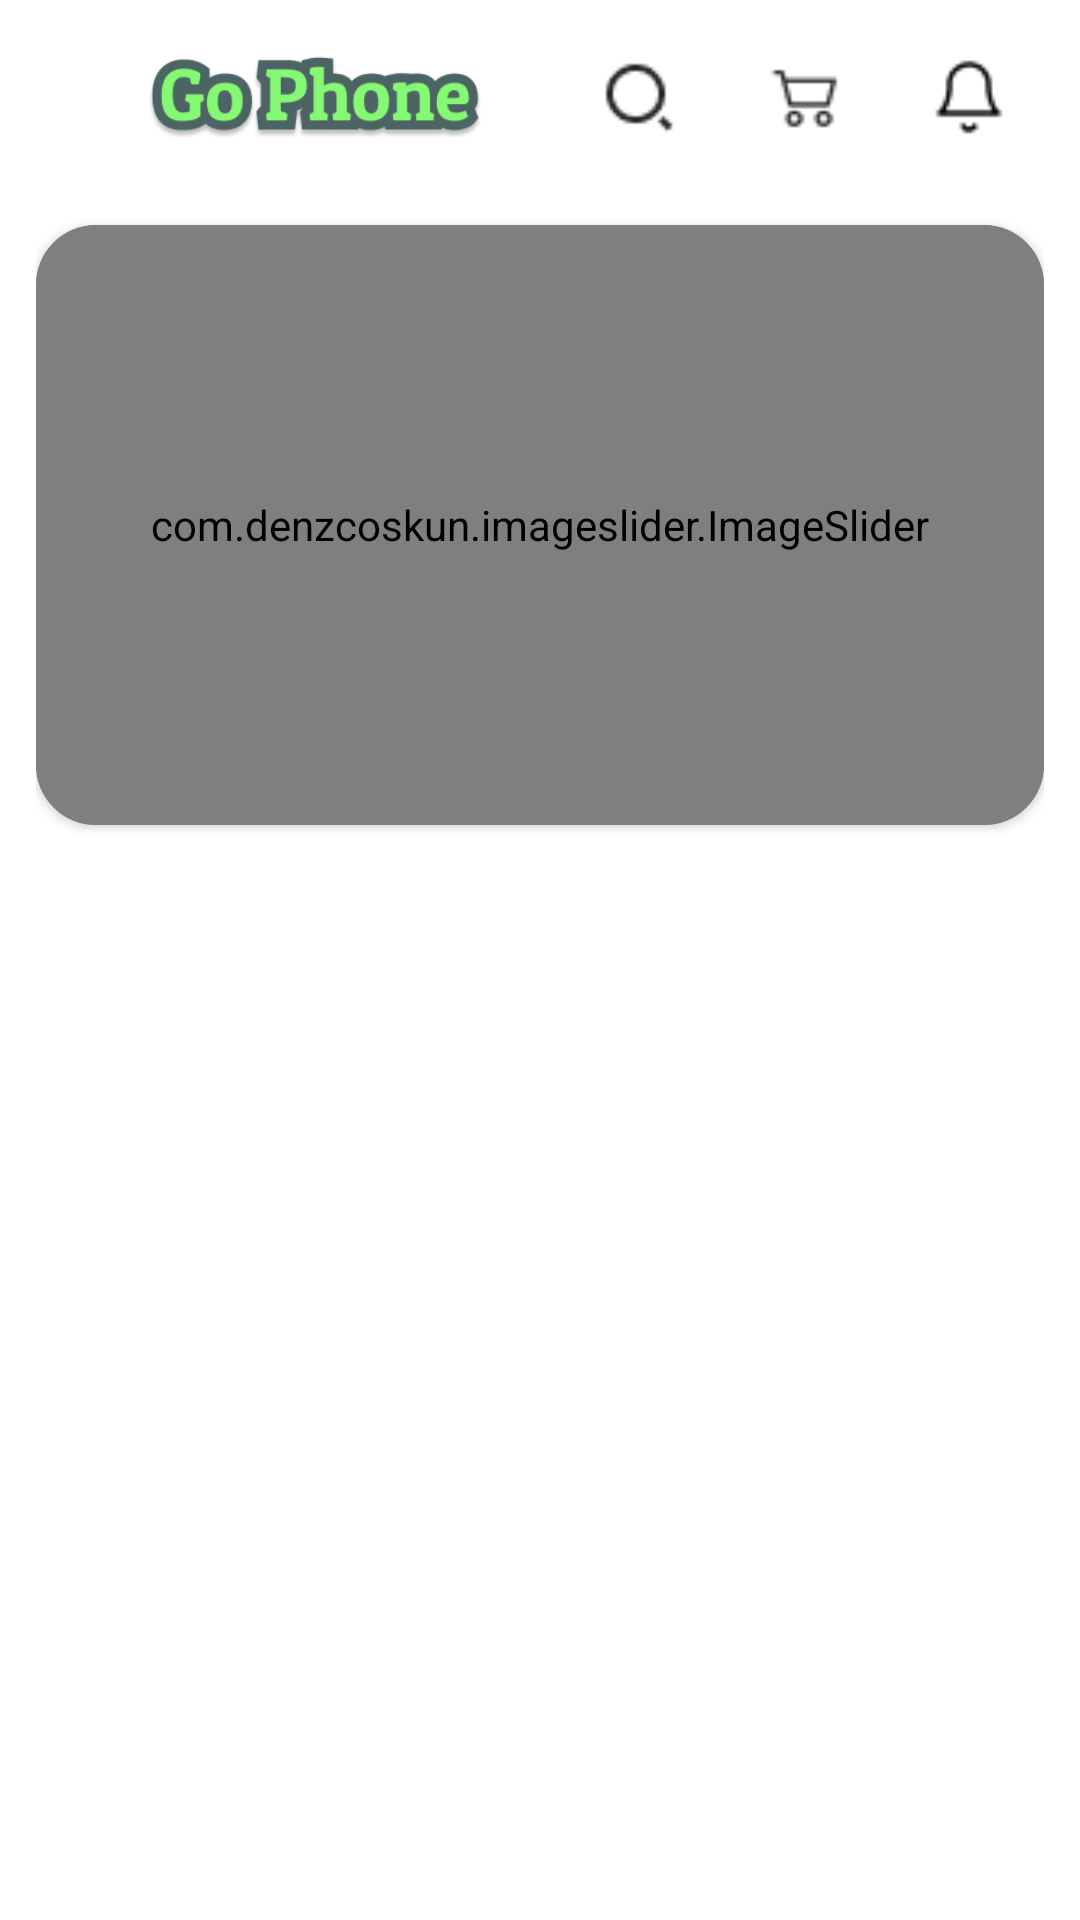

Icon bounding boxes for this 1080*1920 phone screenshot, format (x1,y1,x2,y2):
iconfind: (605,63,673,131)
icongiohang: (771,69,838,128)
iconthongbao: (936,60,1002,134)
